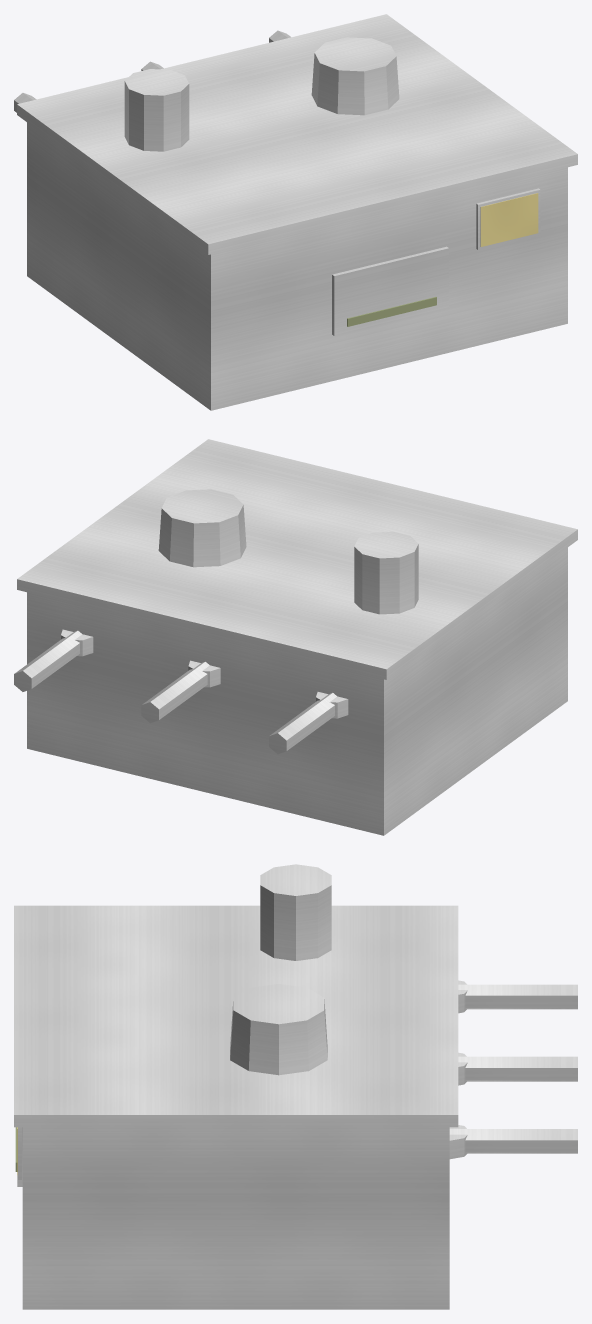
Rendered from paste_dispenser.obj.
The picture shows the model from 3 angles, top to bottom: view 1: azimuth 30°, elevation 25°; view 2: azimuth 150°, elevation 25°; view 3: azimuth 270°, elevation 25°; orthographic projection. The views are drawn at different scales.
Parts seen in each view (by area): view 1: paste_dispenser; view 2: paste_dispenser; view 3: paste_dispenser.
Part boxes in pixels (x1,y1,x2,y2): paste_dispenser: (14, 14, 577, 410); paste_dispenser: (14, 439, 577, 835); paste_dispenser: (14, 864, 577, 1309).
Size of the model in its own units: 2.9 by 1.7 by 3.3.
